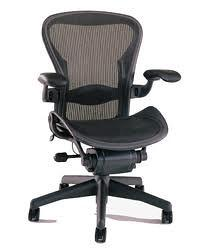chair: (28, 10, 182, 243)
